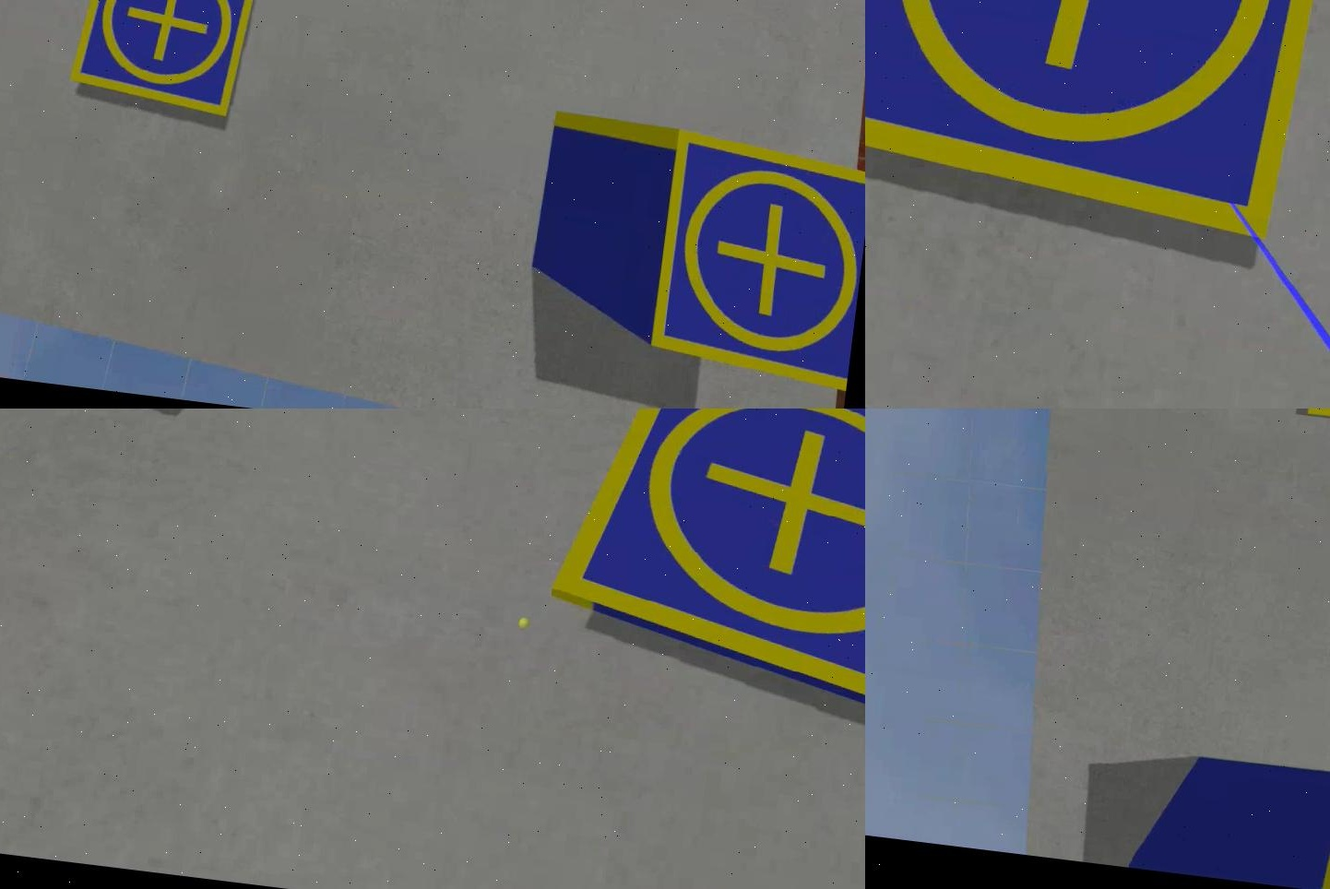small_base: (864, 1, 1328, 253), (535, 409, 864, 743), (643, 127, 864, 391), (65, 1, 264, 123)
